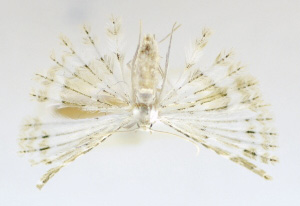Alucitidae: (13, 13, 281, 188)
moth: (15, 15, 283, 190)
